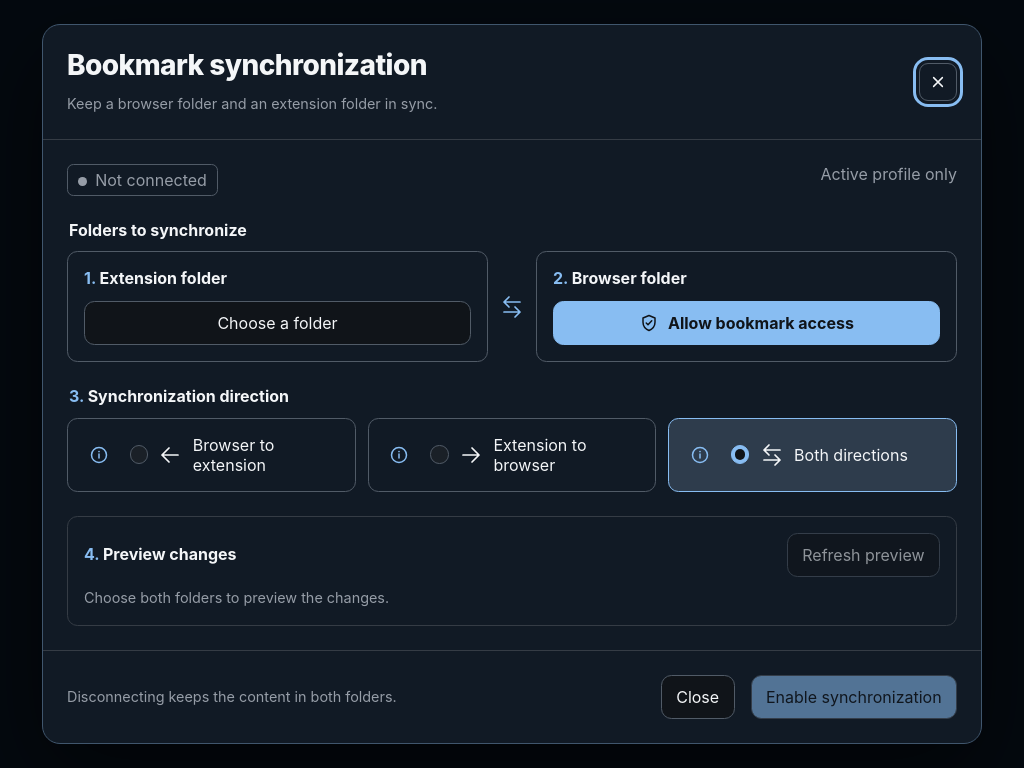
Test: SynchronizationDialog › reports denial and isolates feedback failure from folder loading
Click the button "Allow bookmark access".
click(746, 323)  # box [553,301,940,345]
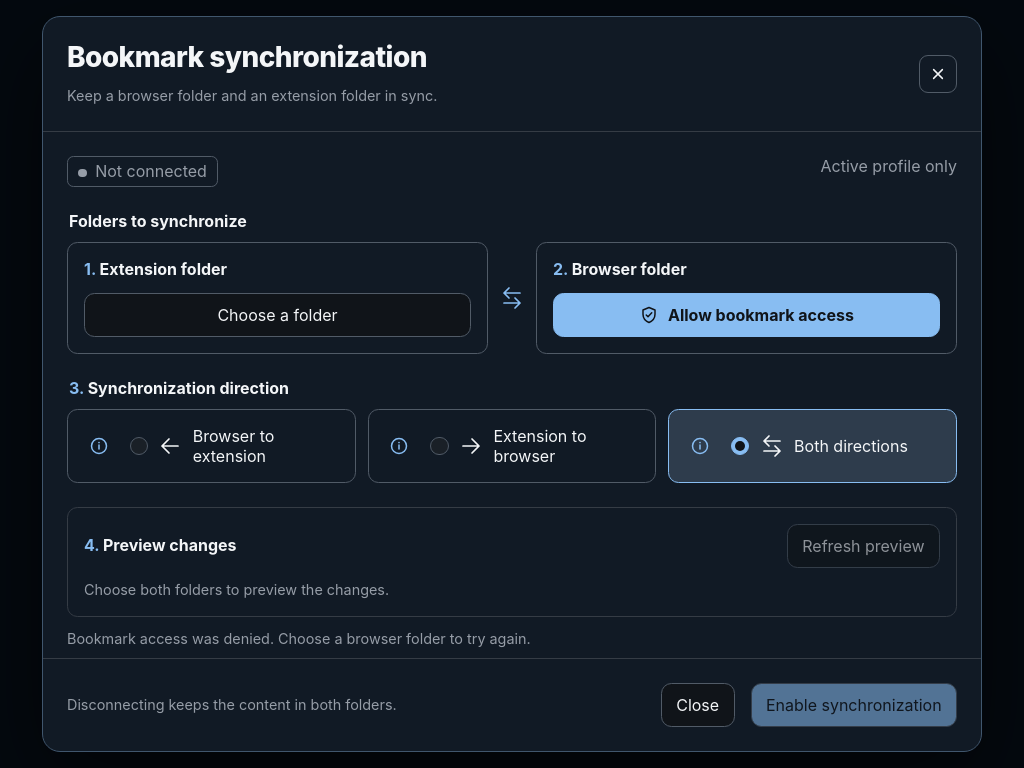
Check: the message shows "Bookmark access was denied", box [67,630,531,646]
Click the button "Allow bookmark access".
click(746, 315)  # box [553,293,940,337]
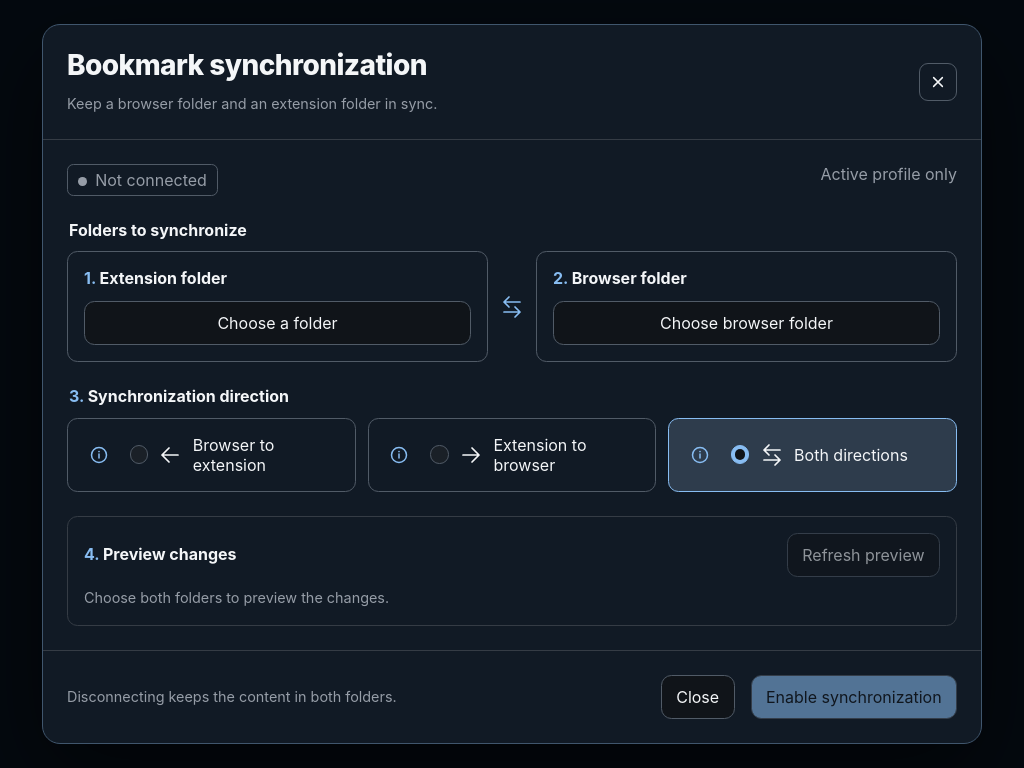
Check: the button "Choose browser folder" is shown, box [553,301,940,345]
